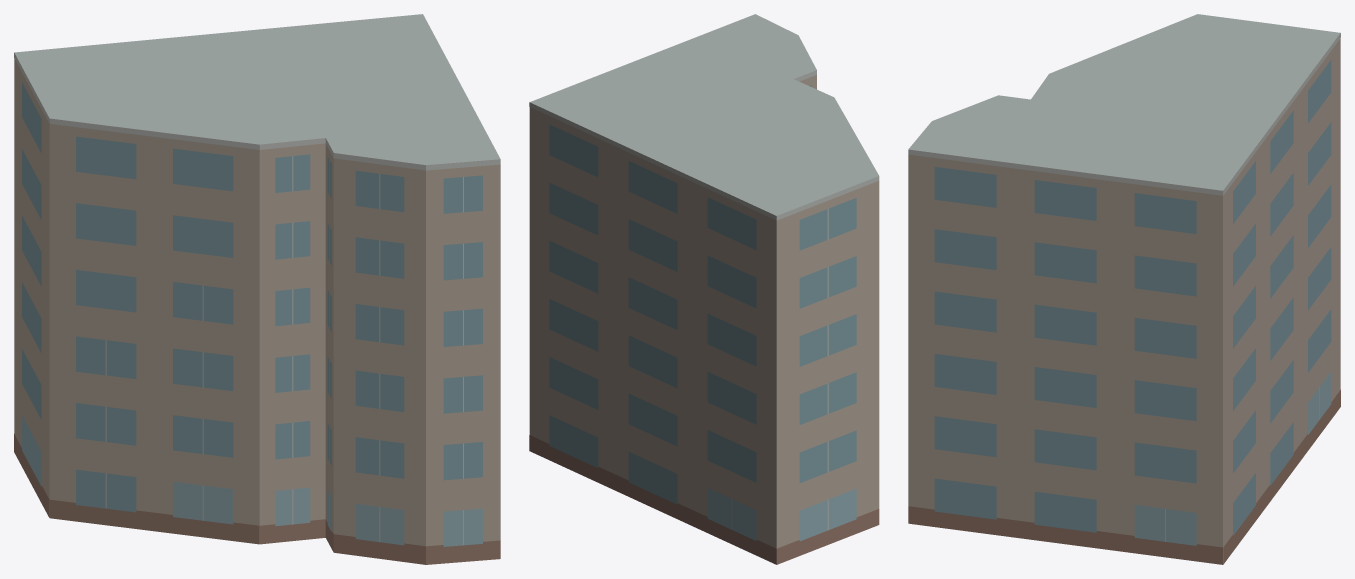
The model's file is survey-upis-32525575.glb.
3 renders of one model, left to right at view 1: azimuth 30°, elevation 25°; view 2: azimuth 150°, elevation 25°; view 3: azimuth 270°, elevation 25°, orthographic. The views are drawn at different scales.
Visible parts, largest first — view 1: survey-upis-32525575.tmp; view 2: survey-upis-32525575.tmp; view 3: survey-upis-32525575.tmp.
Boxes of the visible parts, x1=… form: survey-upis-32525575.tmp: x1=14, y1=14, x2=500, y2=564; survey-upis-32525575.tmp: x1=529, y1=14, x2=879, y2=564; survey-upis-32525575.tmp: x1=908, y1=14, x2=1340, y2=564.
Size of the model in its own units: 18.56 by 18.3 by 19.19.
